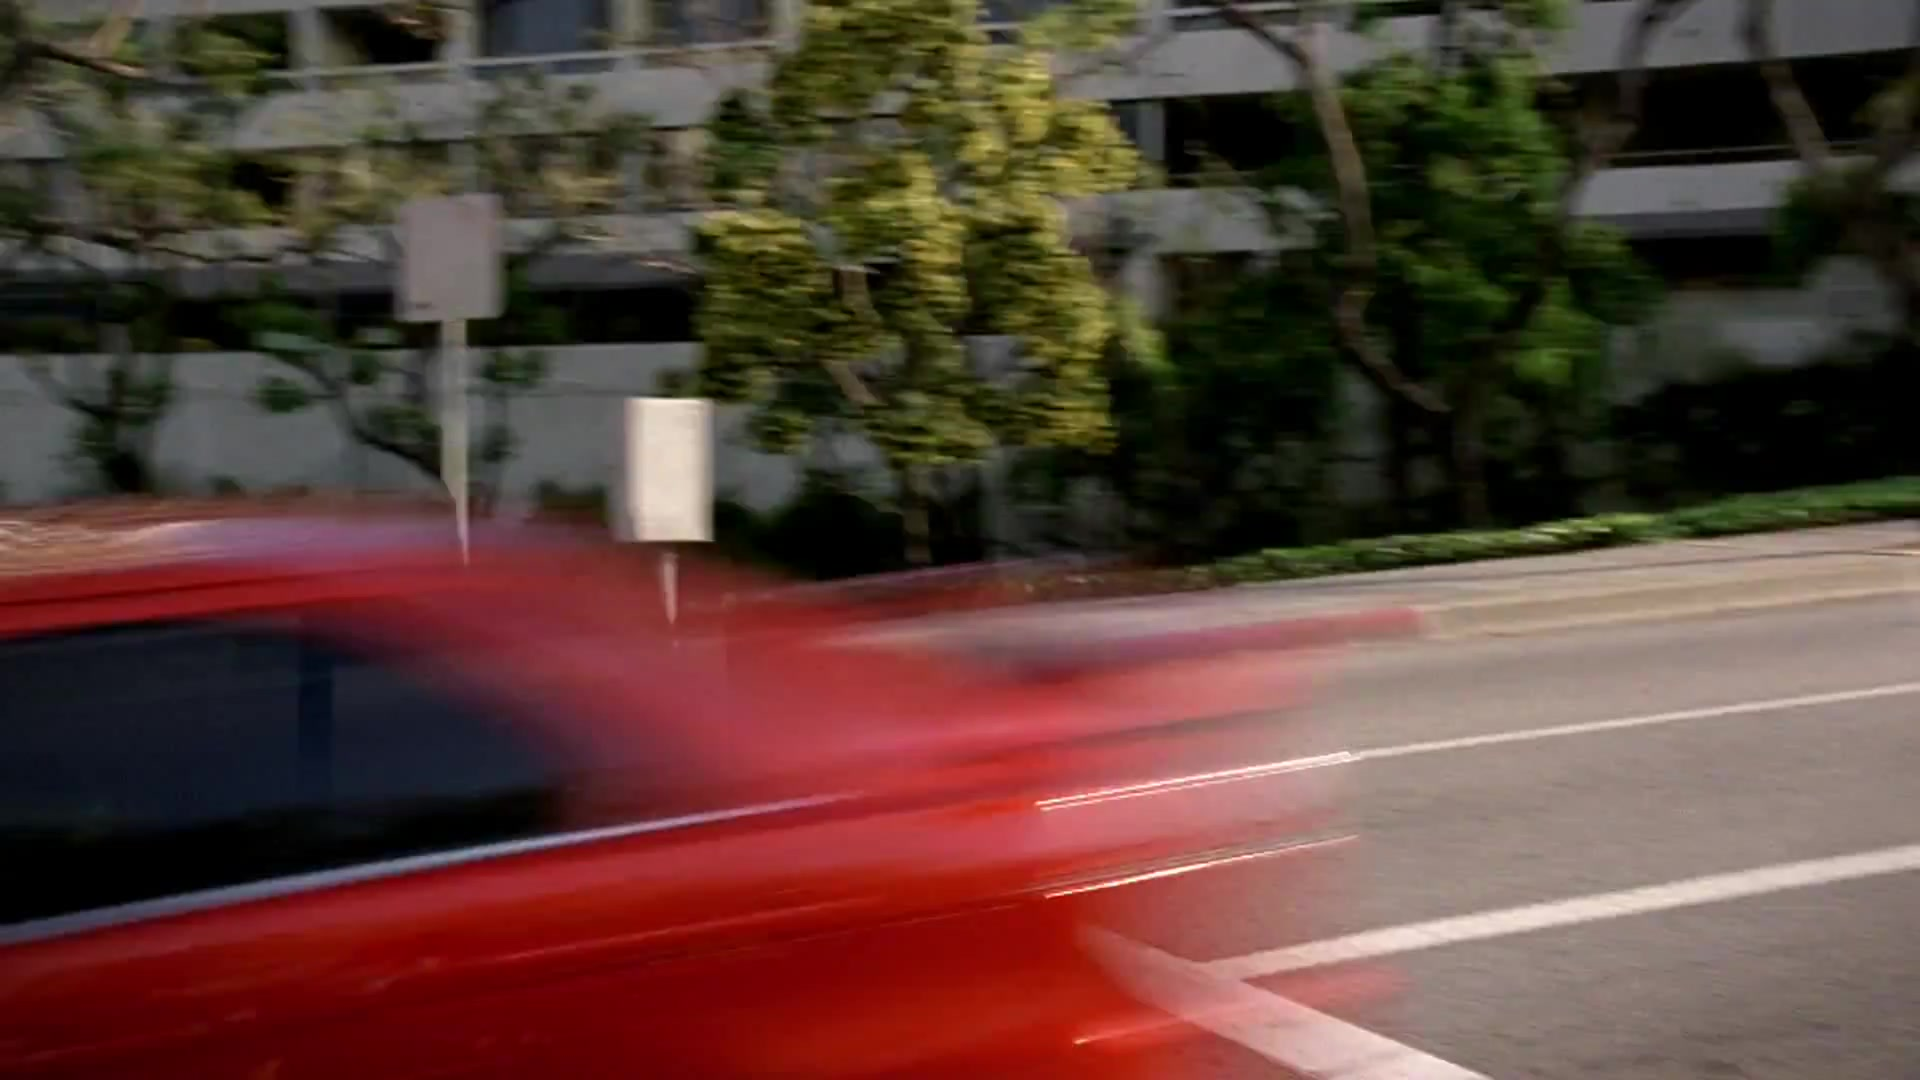car: (1, 481, 1429, 1080)
